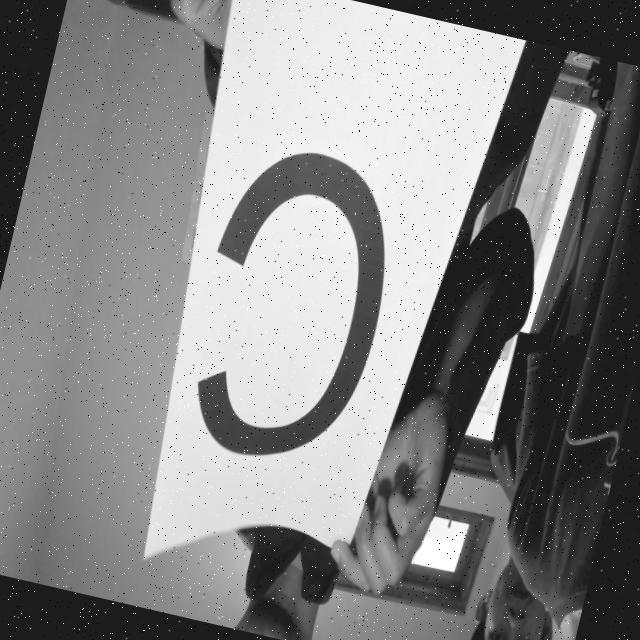c: (162, 117, 428, 492)
